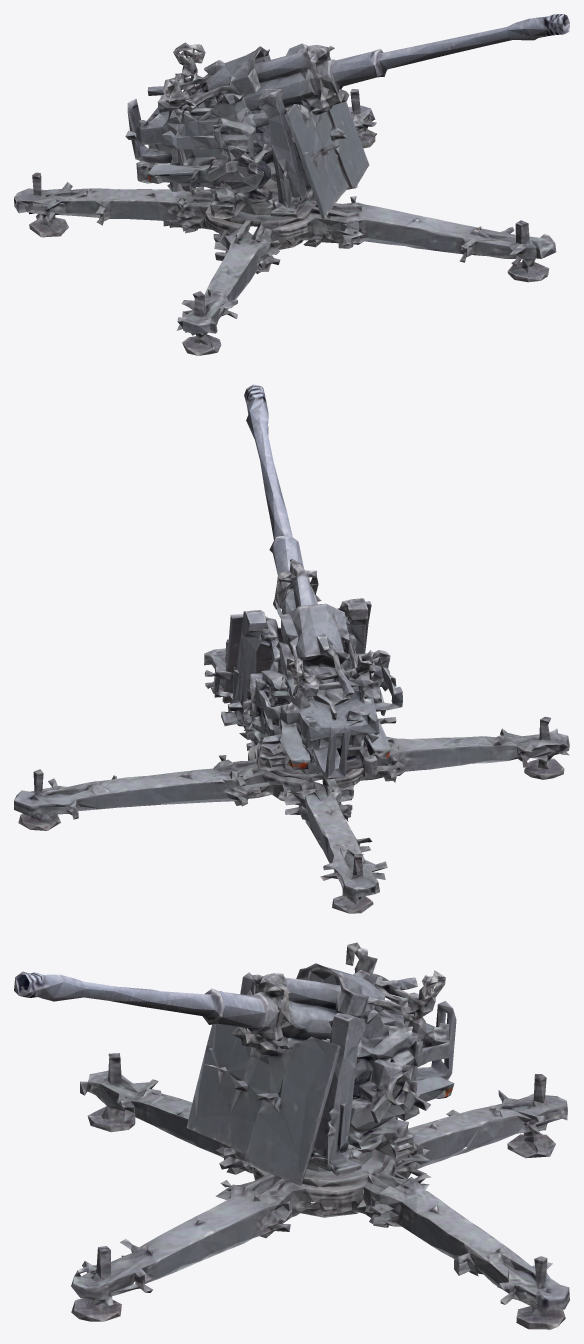
File: flak88_hull.obj
3 renders of one model, top to bottom at view 1: azimuth 30°, elevation 25°; view 2: azimuth 150°, elevation 25°; view 3: azimuth 270°, elevation 25°, orthographic. The views are drawn at different scales.
Visible parts, largest first — view 1: flak88_hull; view 2: flak88_hull; view 3: flak88_hull.
Part boxes in pixels (x1,y1,x2,y2): flak88_hull: (14, 14, 569, 355); flak88_hull: (14, 384, 569, 913); flak88_hull: (14, 942, 569, 1329).
Bounding box in the file's own units: 7.19 × 5.39 × 7.6.
1 material, 1 textured.
